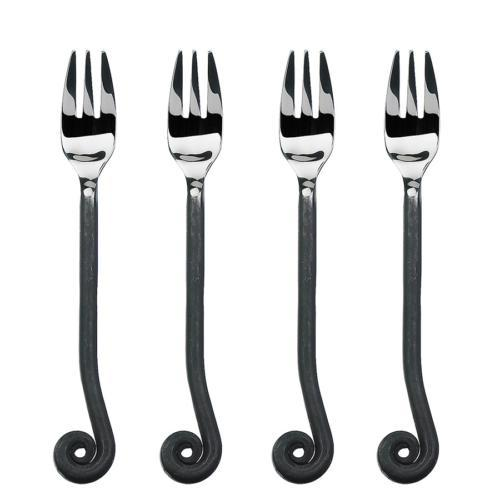Fork: (54, 50, 116, 484), (160, 50, 222, 484), (272, 50, 334, 484), (378, 50, 440, 484)
